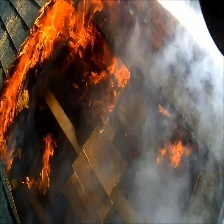fire: (155, 137, 193, 169)
